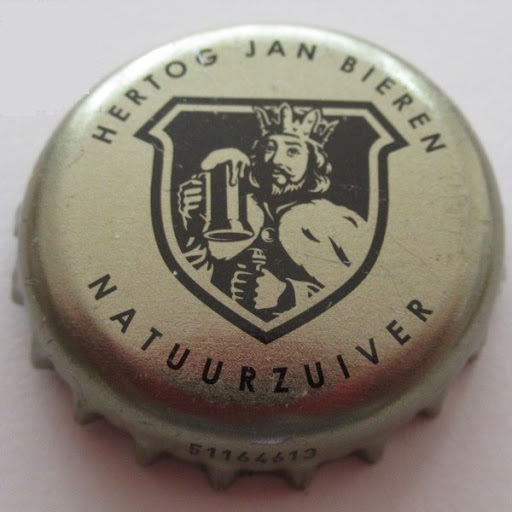hertog jan: (10, 18, 509, 494)
